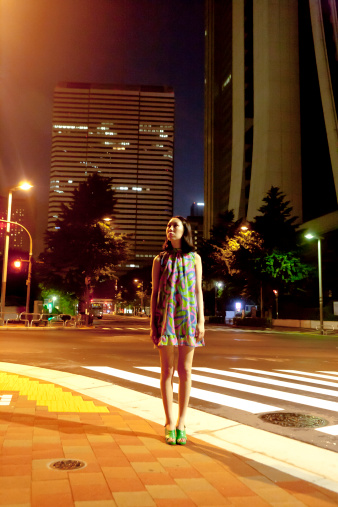em pe: (138, 204, 205, 443)
